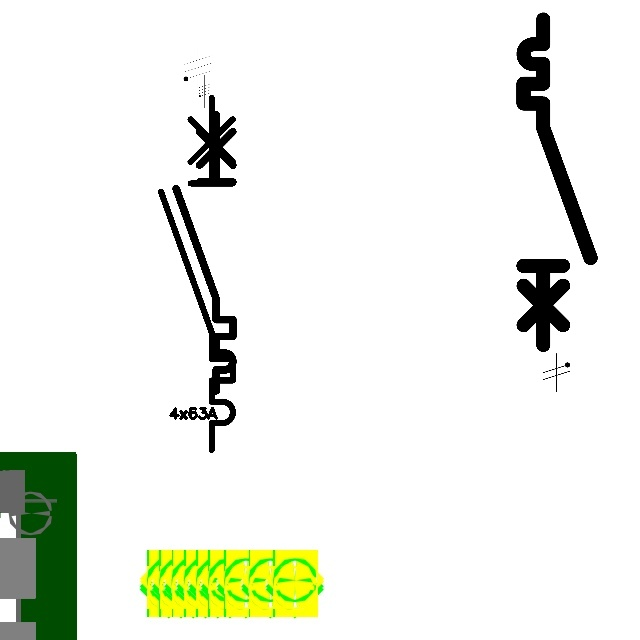interruptor_termomagnetico: (152, 88, 242, 458), (515, 11, 599, 353), (169, 107, 240, 397)
